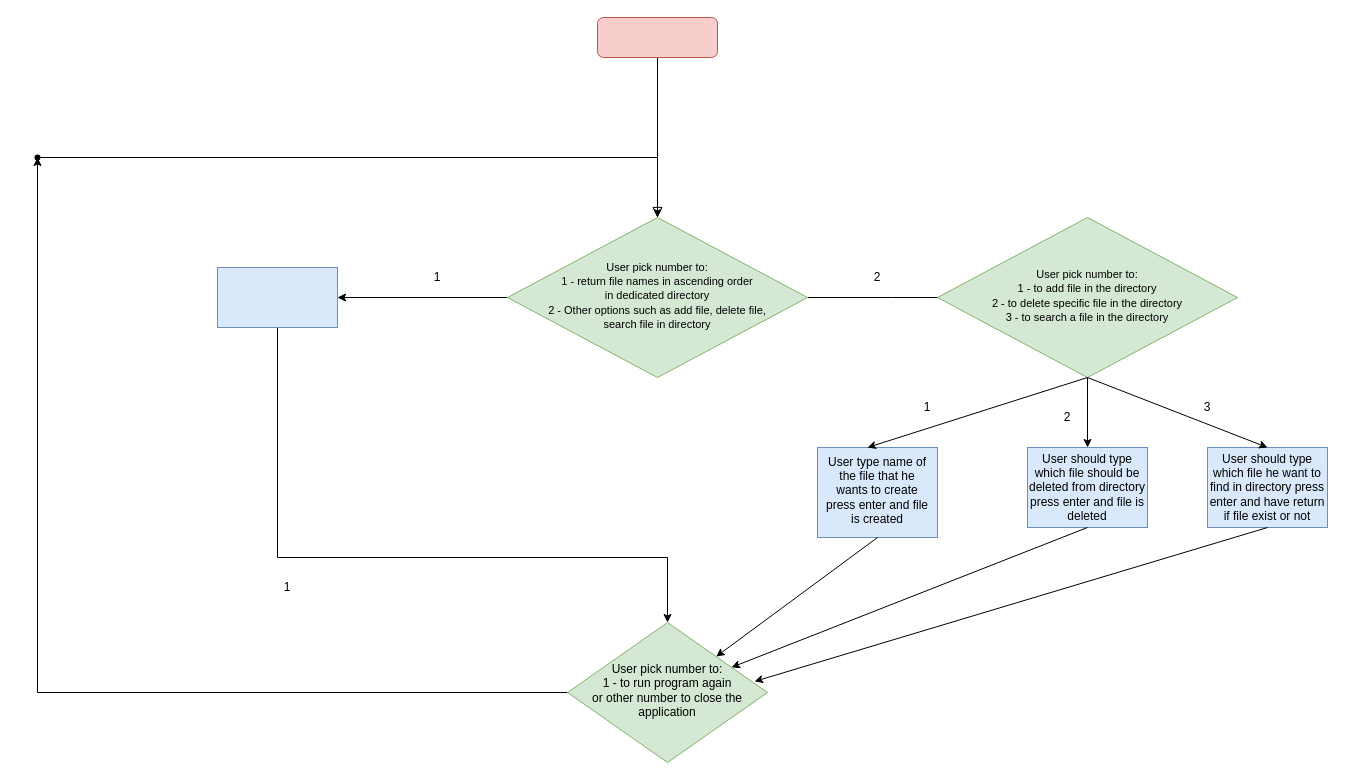
Image size: 1345x780. Some labels were removed from this diagram. The box of each missing label's shape, as (x1, y1, x2, y2) in pixels:
Program returns all files available in directory: (216, 266, 338, 328)
Welcome in the LockedMe.com App: (596, 16, 718, 58)
